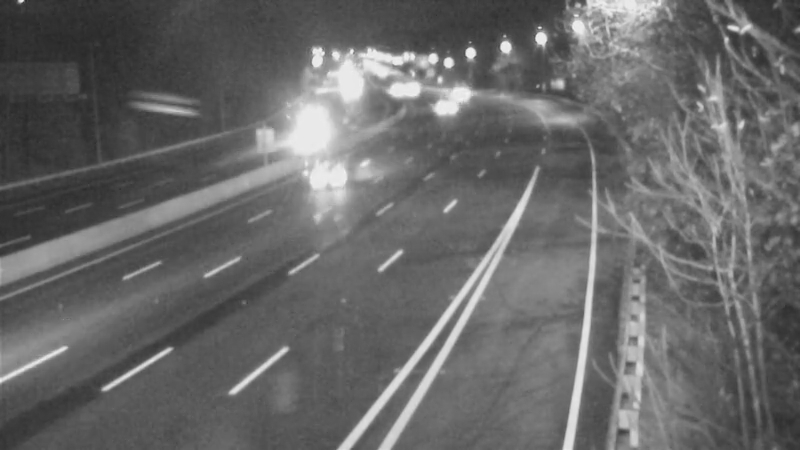vehicle: (292, 136, 372, 216), (387, 63, 437, 113), (363, 62, 413, 112), (436, 66, 486, 116), (420, 83, 470, 133), (277, 119, 327, 169)
